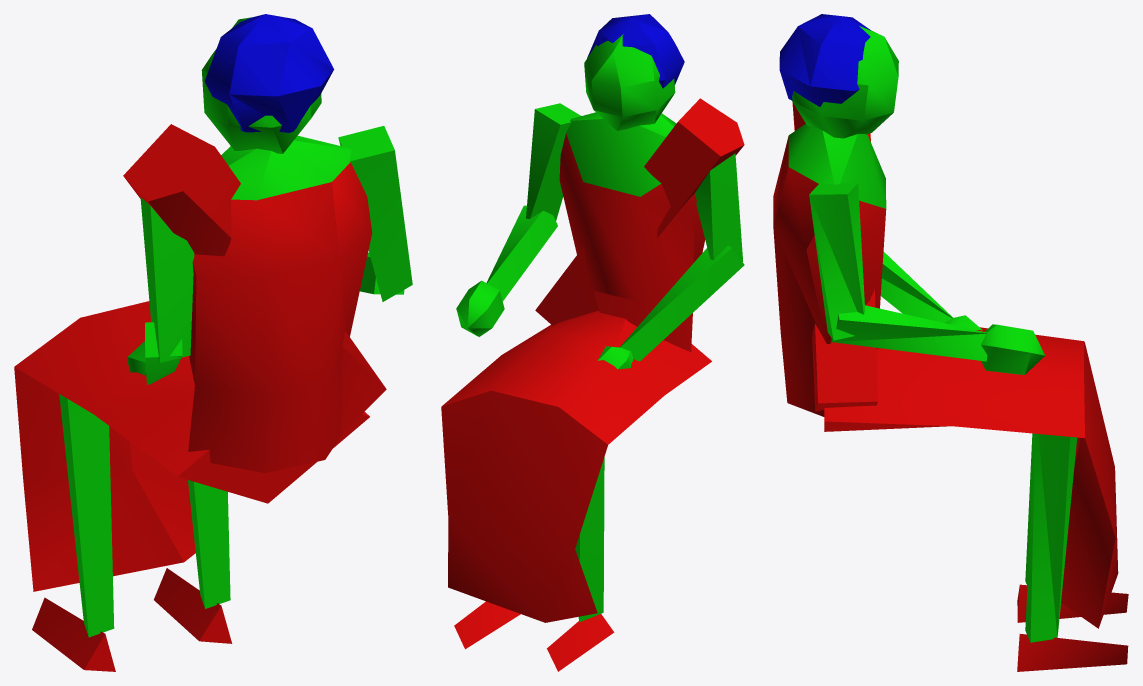
The model's file is noble_sit_lod1.glb.
The picture shows the model from 3 angles, left to right: view 1: azimuth 30°, elevation 25°; view 2: azimuth 150°, elevation 25°; view 3: azimuth 270°, elevation 25°; orthographic projection. The views are drawn at different scales.
Parts seen in each view (by area): view 1: OUT_1; view 2: OUT_1; view 3: OUT_1.
Boxes of the visible parts, x1,y1,x2,y2 form: OUT_1: [14, 14, 412, 671]; OUT_1: [441, 14, 744, 671]; OUT_1: [773, 14, 1128, 671].
Bounding box in the file's own units: 0.5257 × 1.3 × 0.6703.
